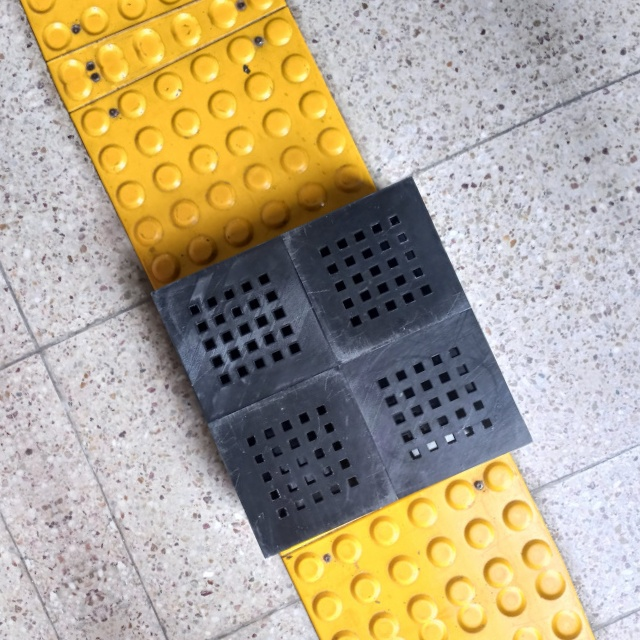pallet: (132, 126, 554, 621)
